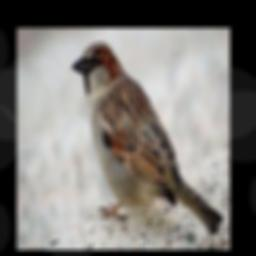Sparrow: (71, 43, 223, 234)
